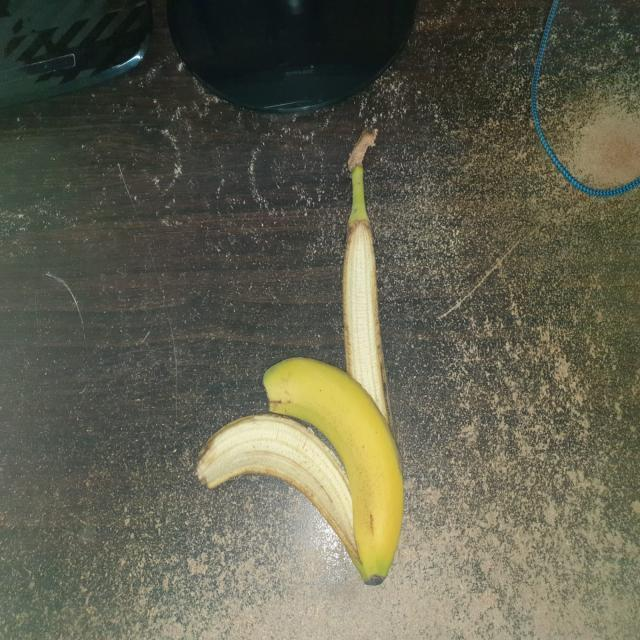banana-peel: (195, 354, 404, 585)
